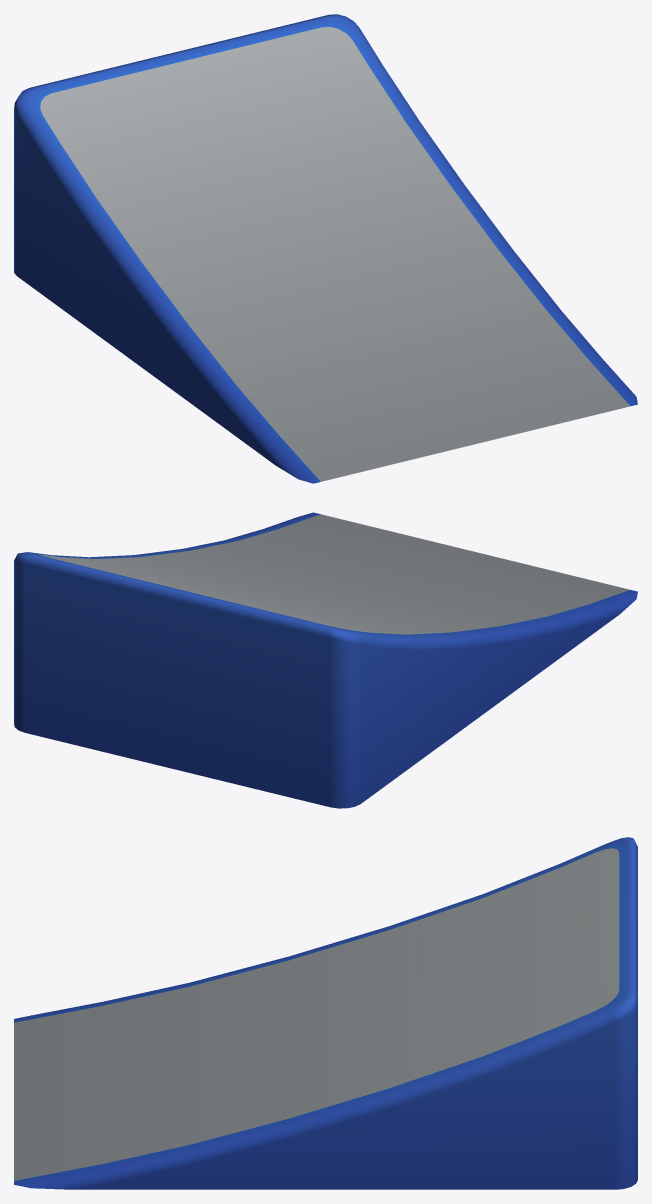
File: Trampoline_06.fbx
The picture shows the model from 3 angles, top to bottom: view 1: azimuth 30°, elevation 25°; view 2: azimuth 150°, elevation 25°; view 3: azimuth 270°, elevation 25°; orthographic projection. The views are drawn at different scales.
Visible parts, largest first — view 1: Trampoline_06; view 2: Trampoline_06; view 3: Trampoline_06.
Part boxes in pixels (x1=…): Trampoline_06: x1=14, y1=14, x2=637, y2=483; Trampoline_06: x1=14, y1=512, x2=637, y2=808; Trampoline_06: x1=14, y1=837, x2=637, y2=1189.
Size of the model in its own units: 400 by 600 by 196.
